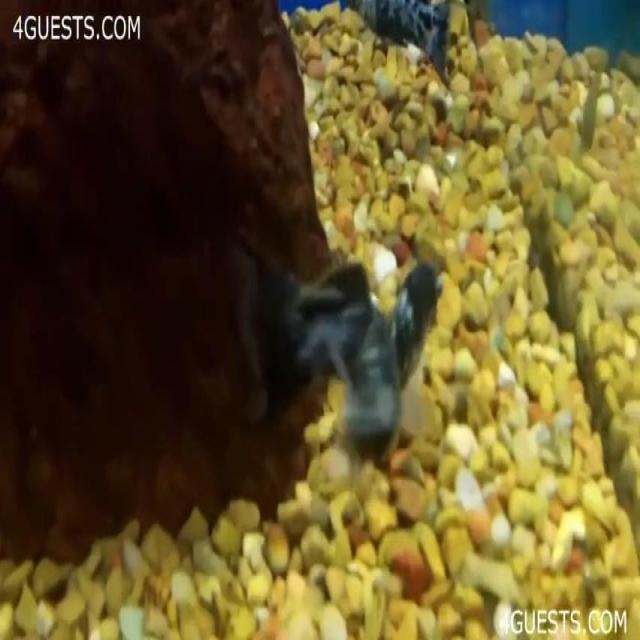PlatyFish: (239, 227, 456, 522)
